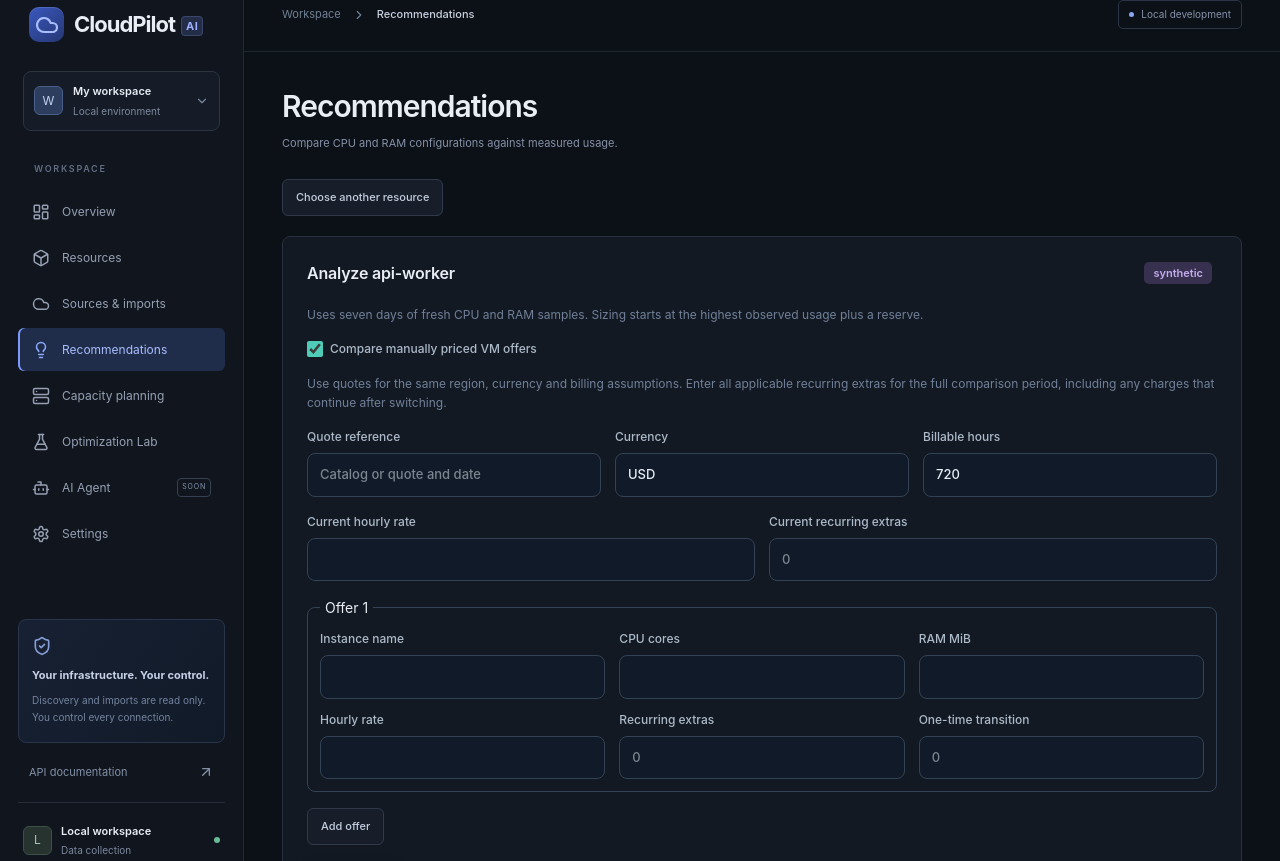
application workspace › runs sizing for the selected VM and displays the estimated and capacity changes
Earlier steps of the test are not shown.
Type "Example quote" into the field labelled "Quote reference" at (454, 475), box top-left (307, 453), bottom-right (601, 497)
Type "0.12" into the number field labelled "Current hourly rate" at (531, 560), box top-left (307, 538), bottom-right (755, 581)
Type "vm-small" into the field labelled "Instance name" at (463, 677), box top-left (320, 655), bottom-right (605, 699)
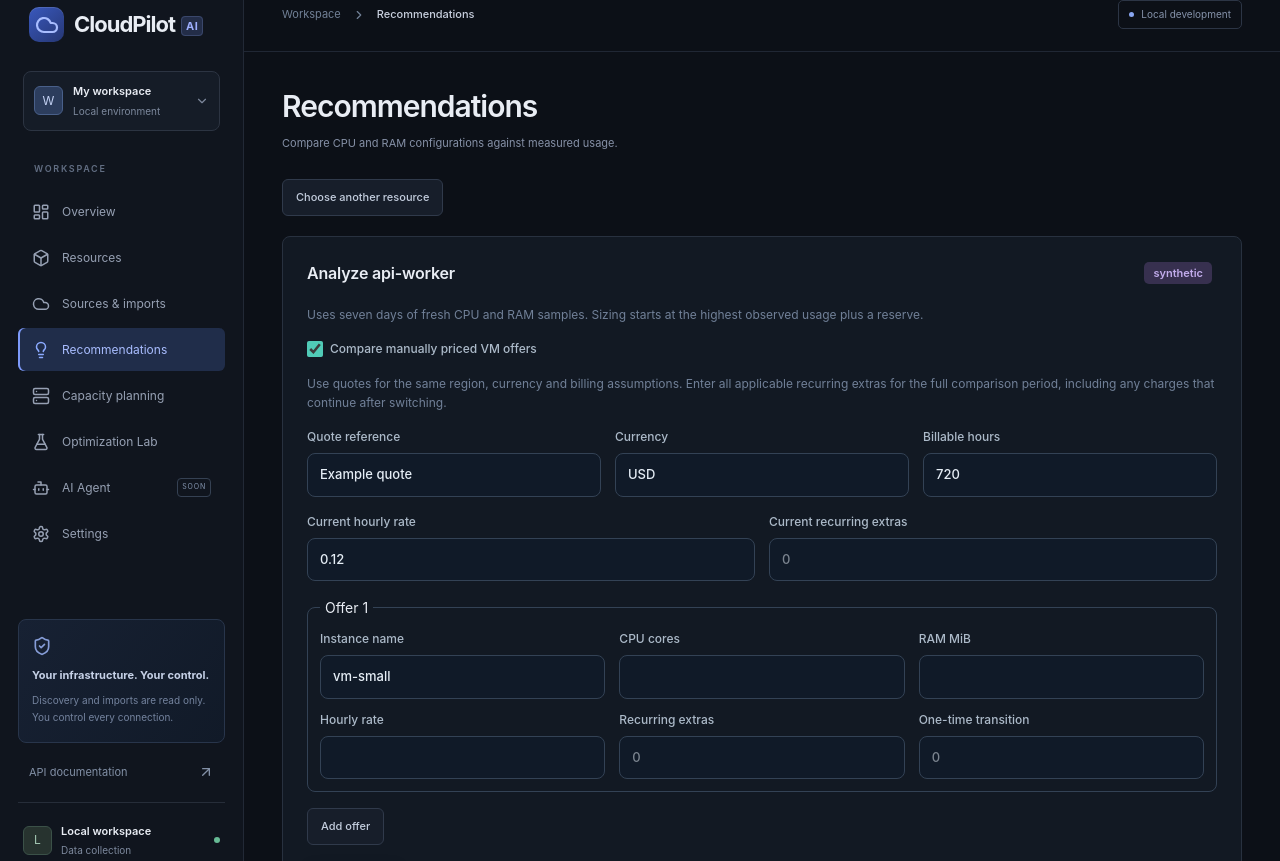
Type "2" into the number field labelled "CPU cores" at (762, 677), box top-left (619, 655), bottom-right (905, 699)
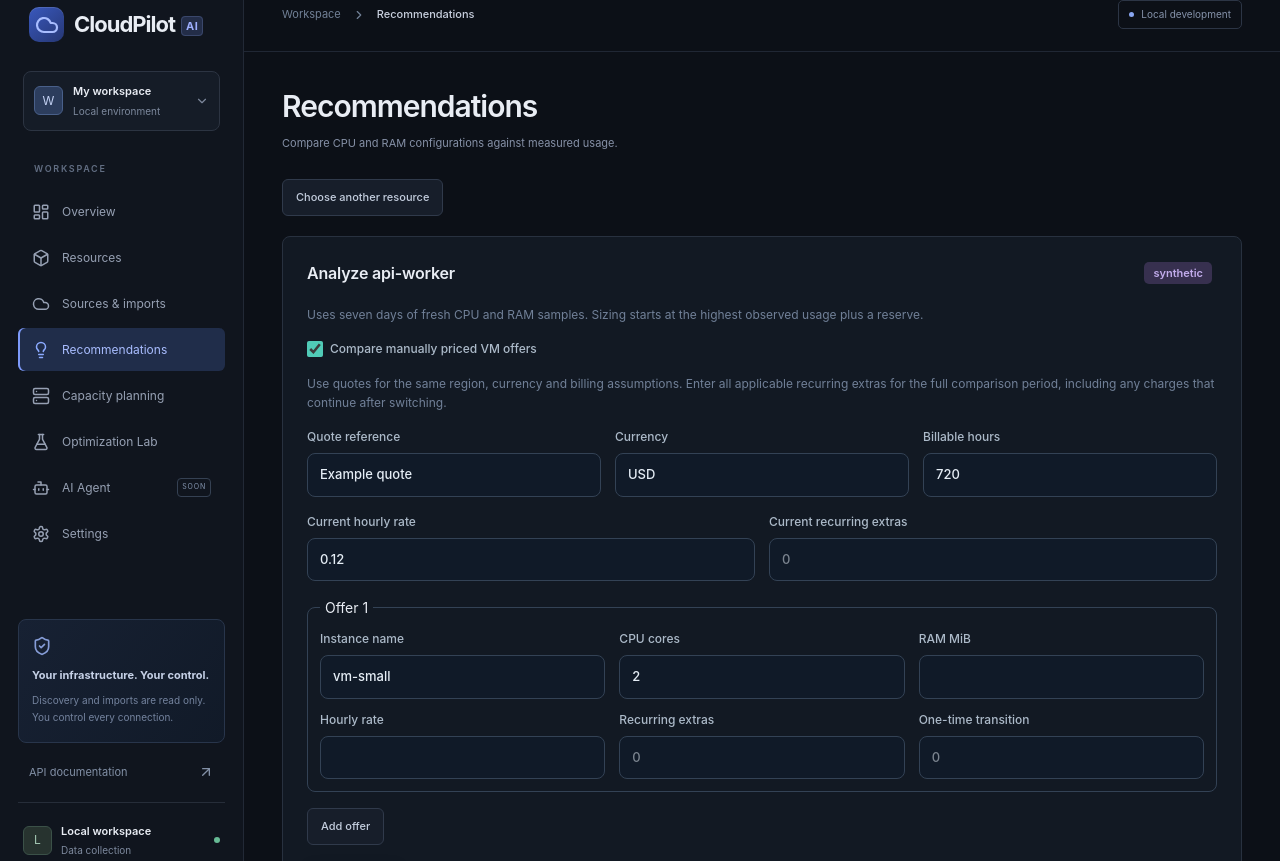
Type "2048" into the number field labelled "RAM MiB" at (1061, 677), box top-left (919, 655), bottom-right (1204, 699)
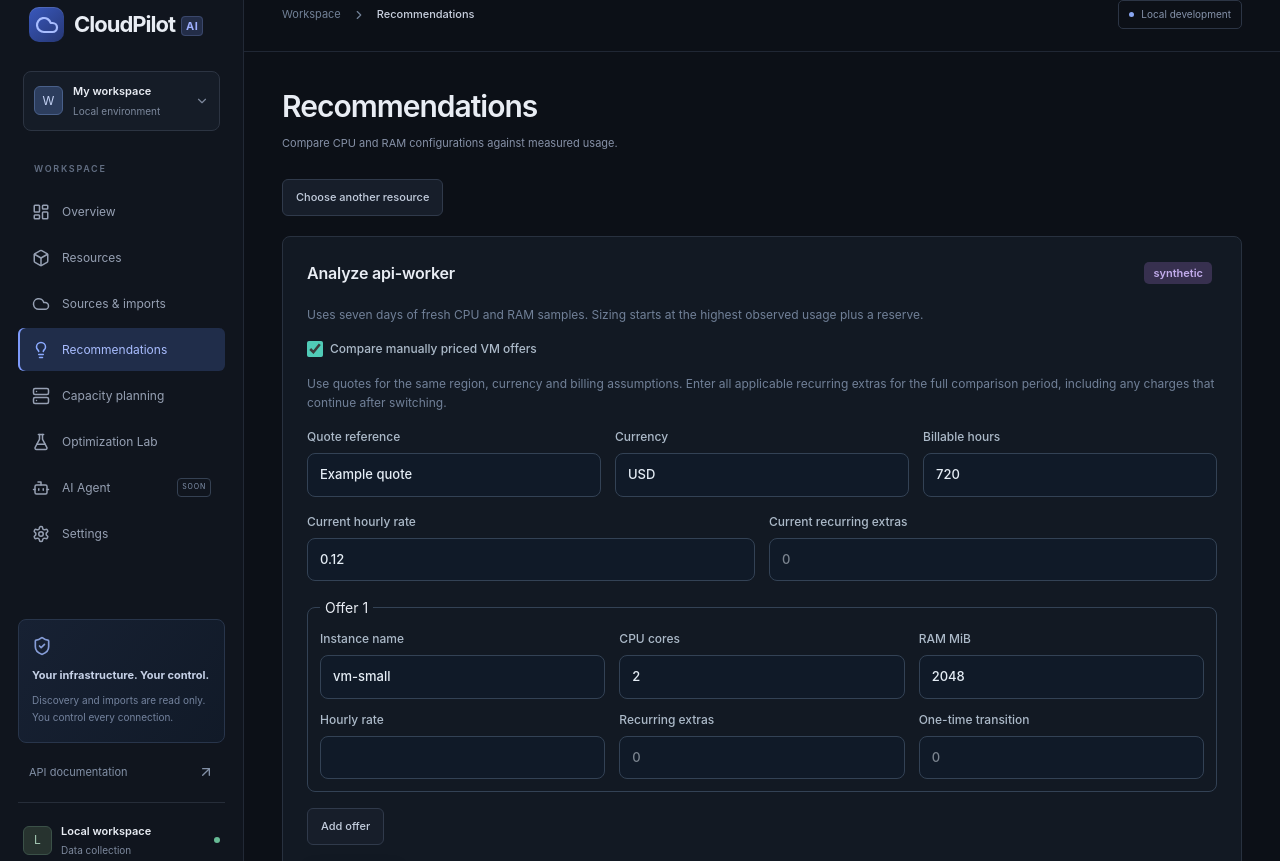
Type "0.075" into the number field labelled "Hourly rate" at (463, 758), box top-left (320, 736), bottom-right (605, 779)
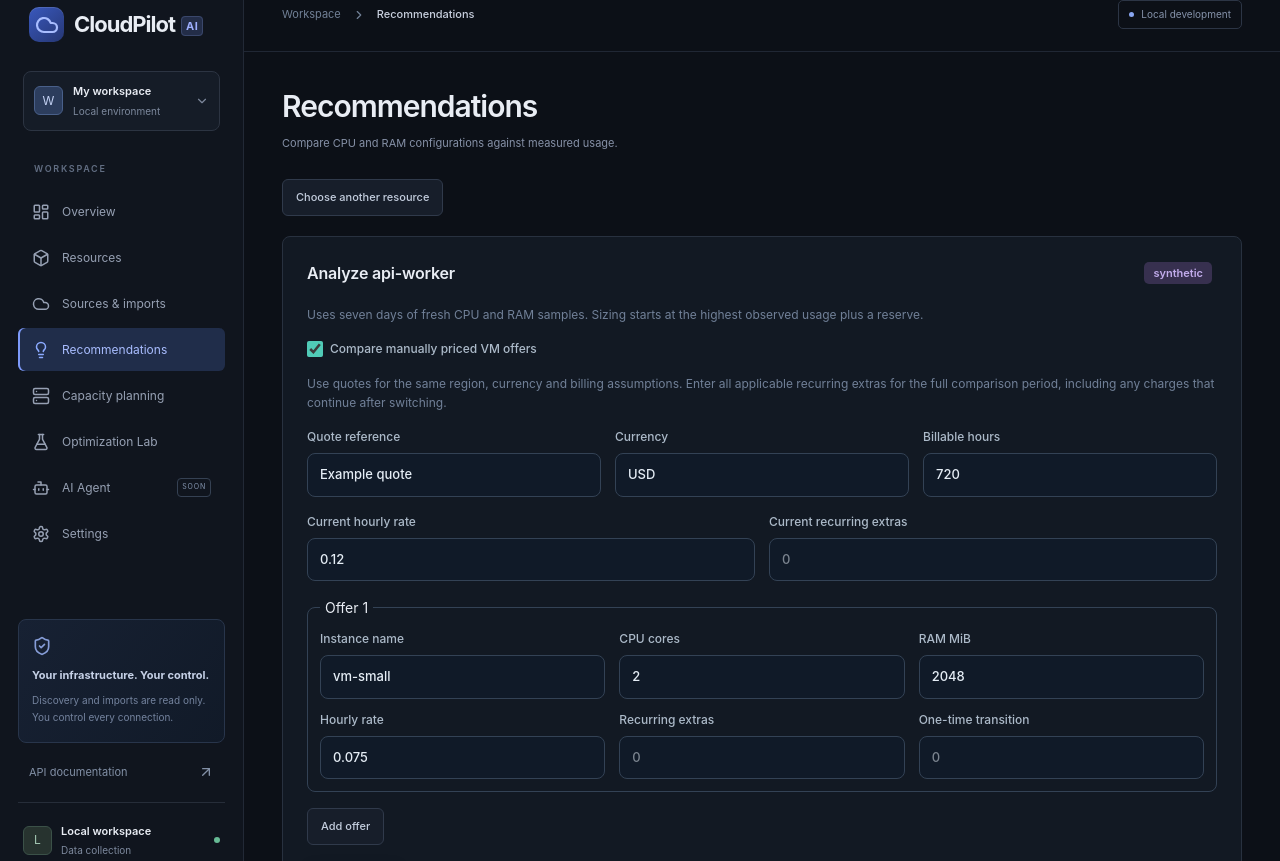
Type "5.5" into the number field labelled "One-time transition" at (1061, 758), box top-left (919, 736), bottom-right (1204, 779)
(page scrolled)
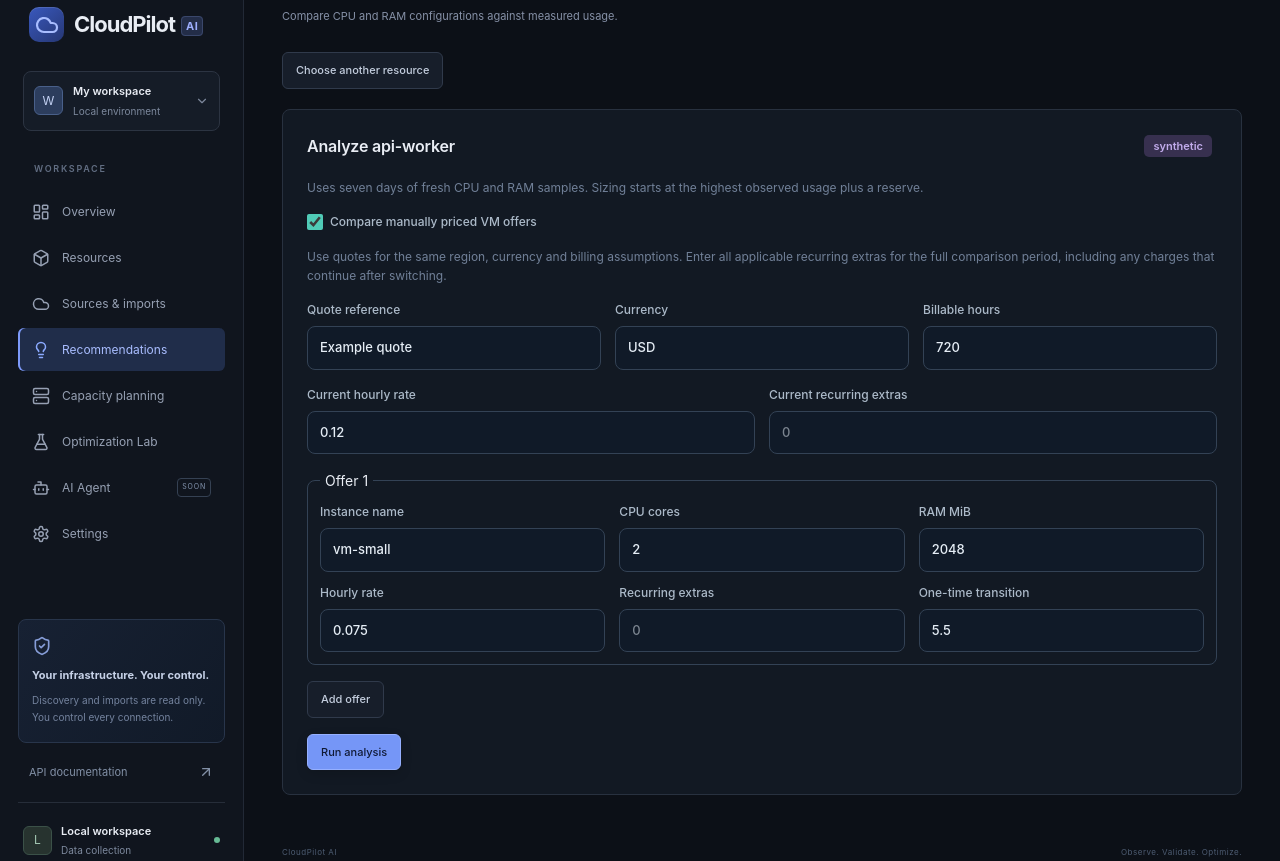
Click the button "Run analysis" at (354, 752), box top-left (307, 734), bottom-right (401, 770)
(page scrolled)
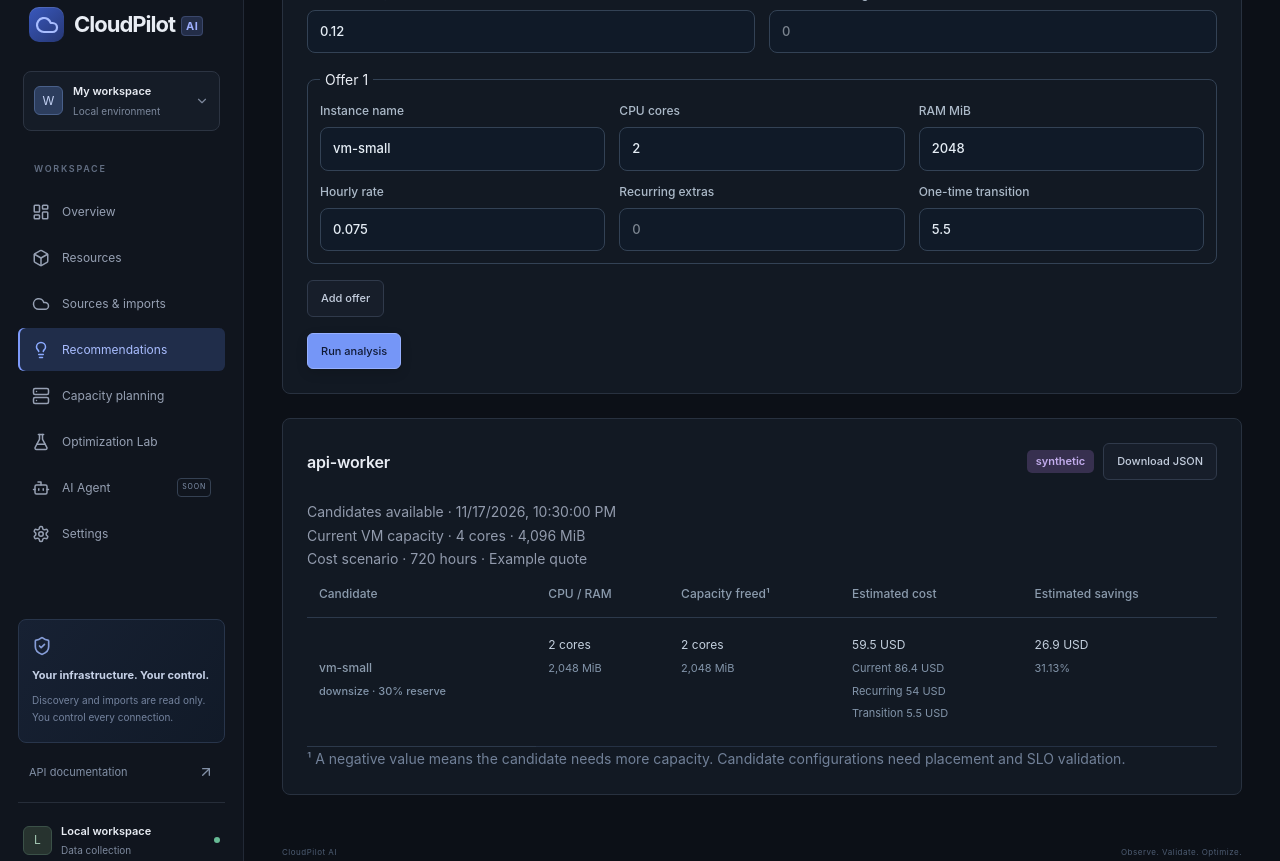
Expected: the text "59.5 USD" is shown, top-left (852, 637), bottom-right (905, 652)
Expected: the text "Transition 5.5 USD" is shown, top-left (852, 706), bottom-right (948, 720)
